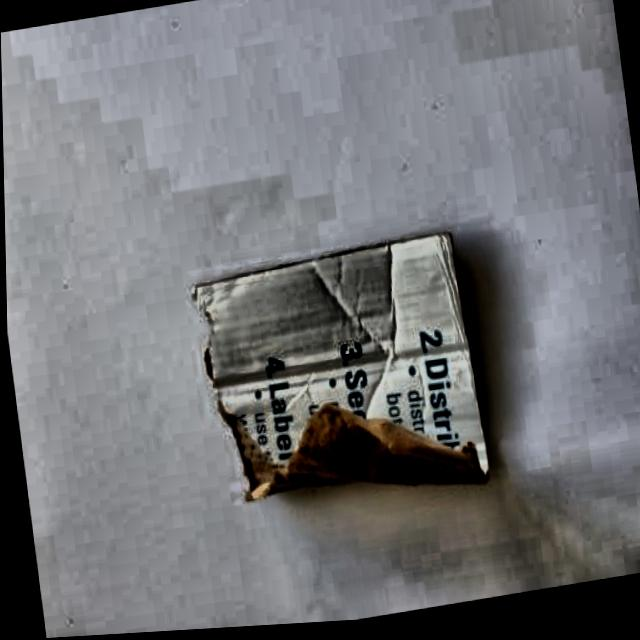Cardbox: (158, 197, 523, 556)
